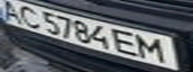4: (90, 23, 112, 48)
5: (36, 8, 60, 35)
7: (54, 14, 75, 39)
8: (69, 18, 90, 44)
A: (0, 0, 27, 25)
C: (15, 2, 45, 29)
E: (112, 28, 142, 57)
M: (136, 34, 175, 63)
